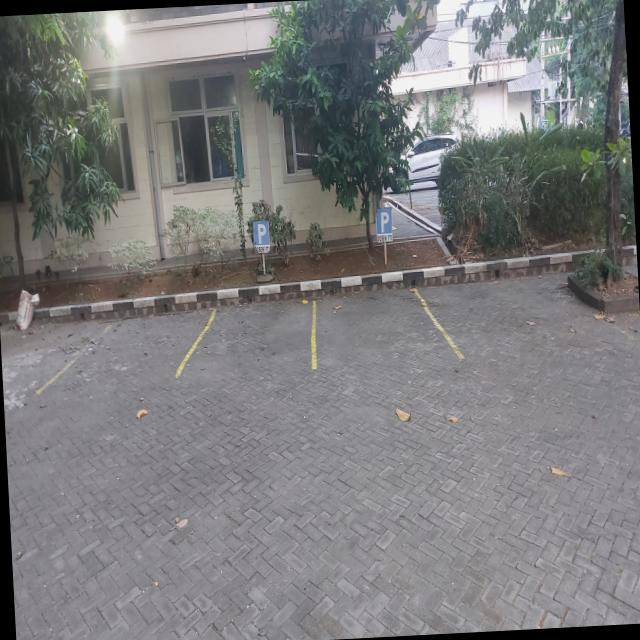free: (416, 270, 637, 361), (39, 311, 214, 388), (314, 290, 463, 365), (179, 298, 316, 376)
